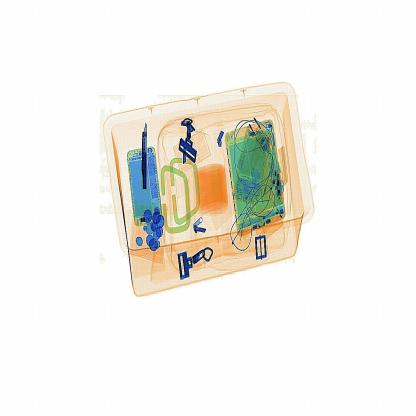pliers: (140, 119, 150, 195)
